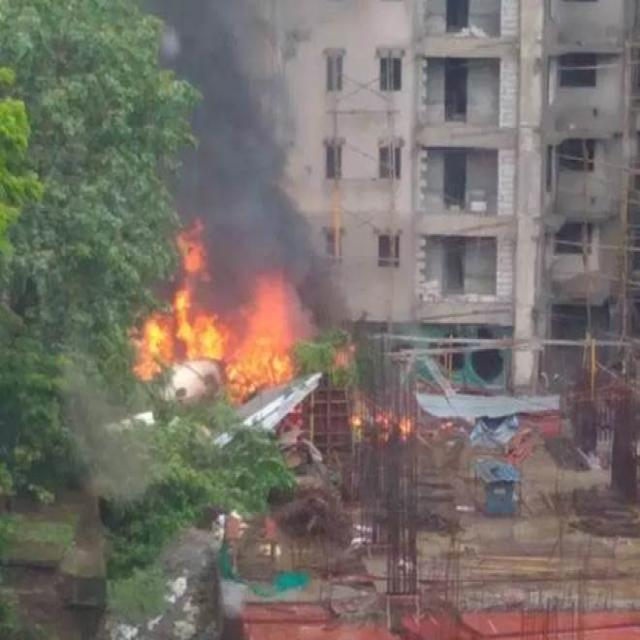Fire: (132, 318, 298, 391), (175, 219, 209, 294)
Smoke: (175, 2, 292, 214), (214, 218, 335, 304)
